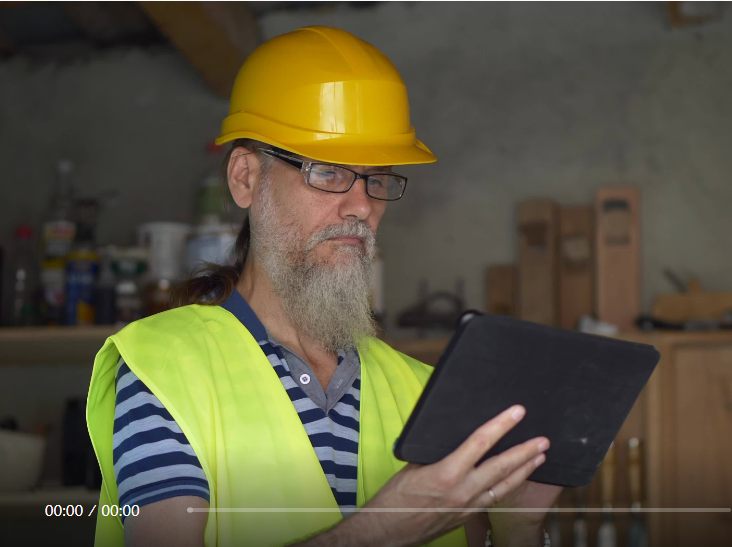safety_helmet: (214, 24, 438, 167)
